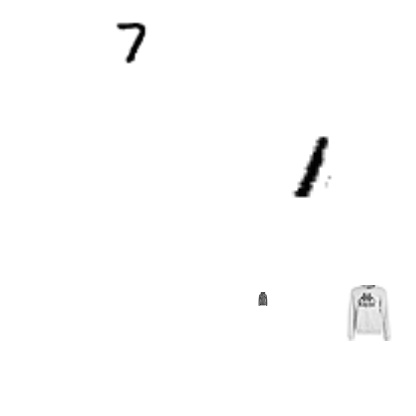1: (268, 125, 352, 209)
7: (105, 9, 161, 65)
Coat: (256, 292, 270, 306)
Pullover: (341, 285, 397, 341)
